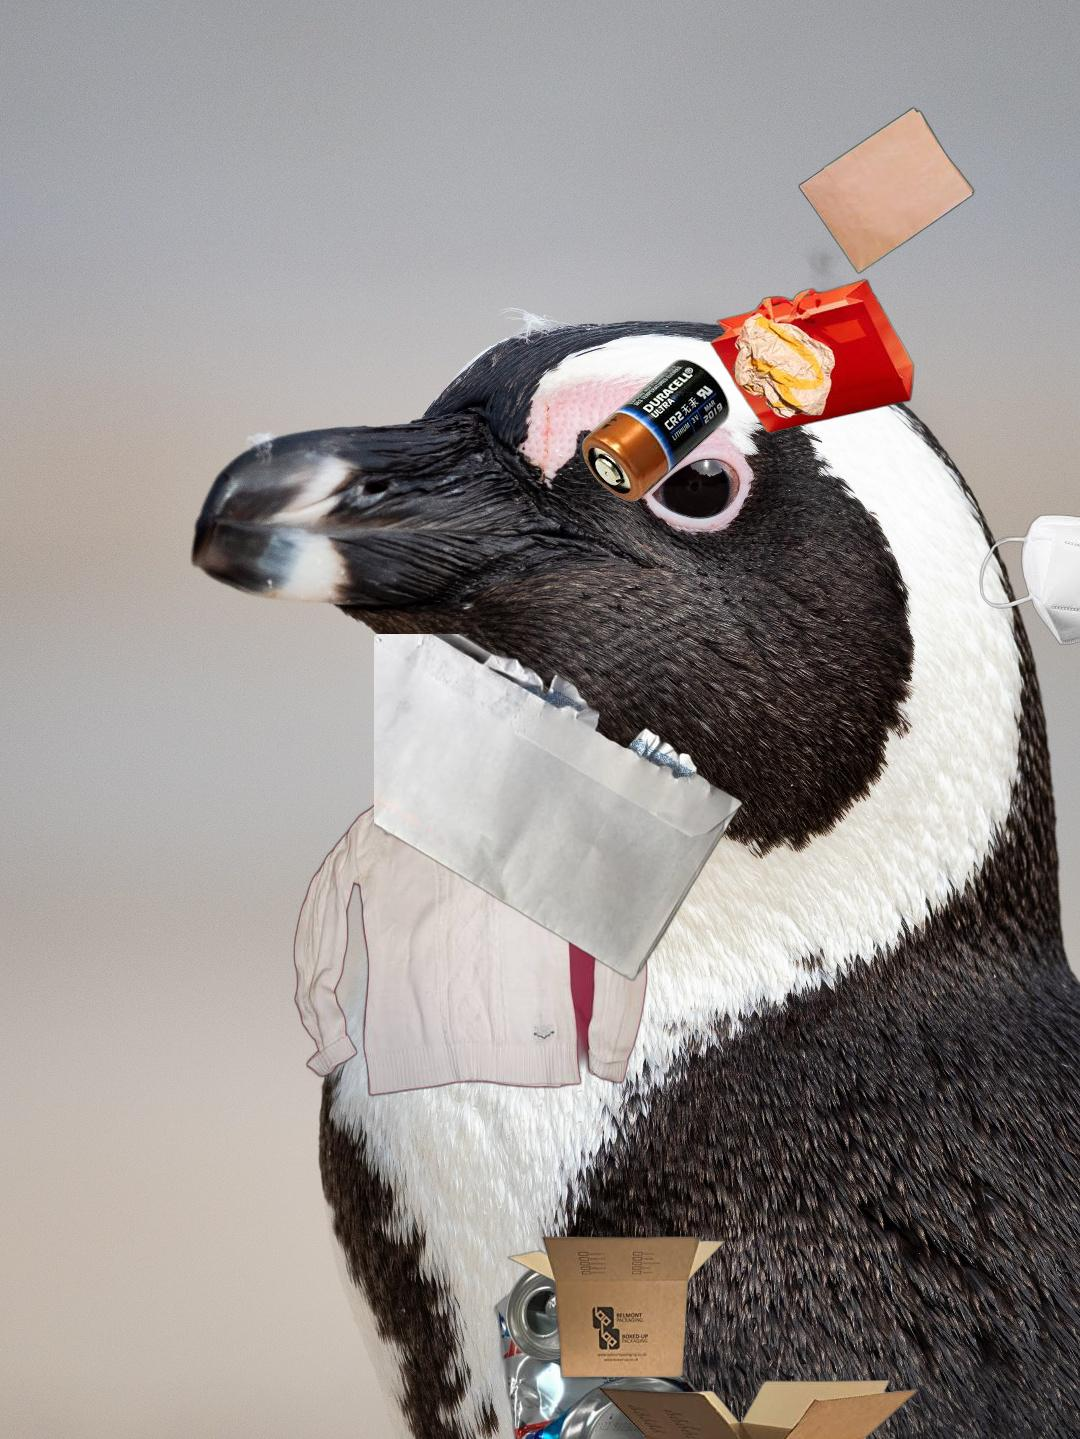battery: (579, 357, 732, 505)
clothes: (290, 772, 651, 1100)
metal-cans: (490, 1248, 715, 1439)
paper: (374, 634, 746, 983)
paper-bag: (676, 176, 917, 435), (796, 105, 977, 276)
trash: (977, 513, 1080, 651)
trashbox-cardboard: (503, 1226, 923, 1439)
